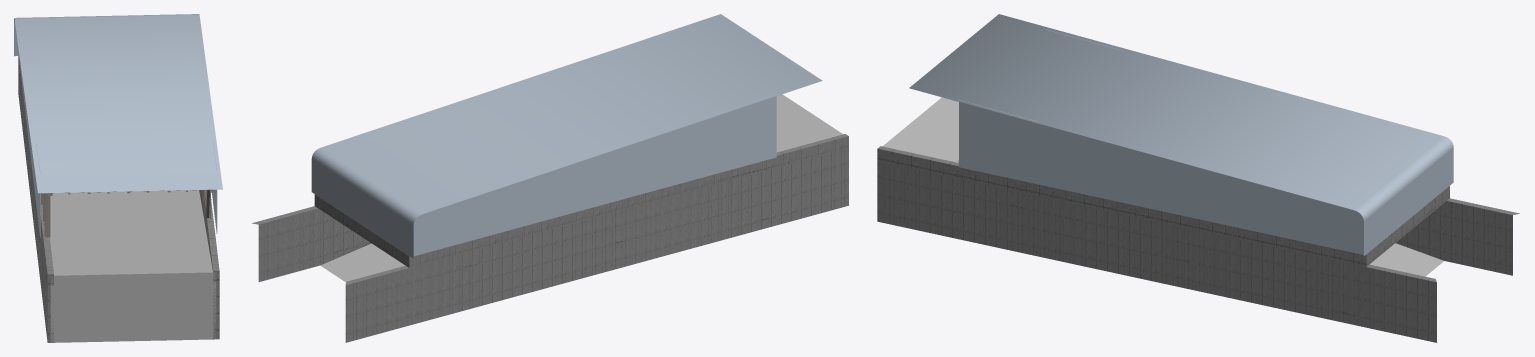
Rendered from dixiarukou1.gltf.
3 views of the same model, side by side, from view 1: azimuth 30°, elevation 25°; view 2: azimuth 150°, elevation 25°; view 3: azimuth 270°, elevation 25° (orthographic). The views are drawn at different scales.
Parts seen in each view (by area): view 1: Obj3d66-607053-174-174, Obj3d66-607053-173-248, Obj3d66-607053-176-063, Obj3d66-607053-172-131, Obj3d66-607053-175-463; view 2: Obj3d66-607053-174-174, Obj3d66-607053-176-063, Obj3d66-607053-172-131, Obj3d66-607053-173-248; view 3: Obj3d66-607053-174-174, Obj3d66-607053-176-063, Obj3d66-607053-172-131, Obj3d66-607053-173-248.
Part boxes in pixels (<box>): Obj3d66-607053-174-174: <box>14,14,222,237</box>; Obj3d66-607053-173-248: <box>49,190,216,342</box>; Obj3d66-607053-176-063: <box>18,56,219,342</box>; Obj3d66-607053-172-131: <box>40,190,219,285</box>; Obj3d66-607053-175-463: <box>41,189,215,237</box>; Obj3d66-607053-174-174: <box>311,14,822,258</box>; Obj3d66-607053-176-063: <box>252,148,848,342</box>; Obj3d66-607053-172-131: <box>314,134,848,267</box>; Obj3d66-607053-173-248: <box>320,94,842,281</box>; Obj3d66-607053-174-174: <box>909,14,1453,256</box>; Obj3d66-607053-176-063: <box>877,161,1519,342</box>; Obj3d66-607053-172-131: <box>877,146,1449,266</box>; Obj3d66-607053-173-248: <box>882,97,1443,276</box>.
Size of the model in its own units: 91.55 by 32.13 by 131.
5 materials, 2 textured.
